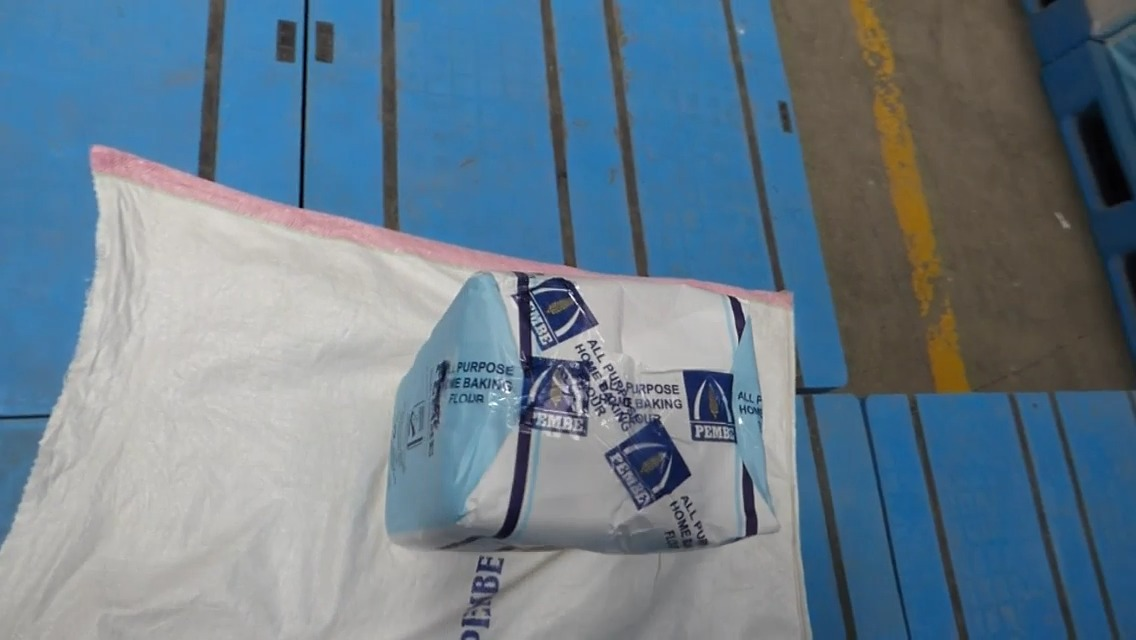wheat_flour_blue_label: (389, 263, 781, 552)
